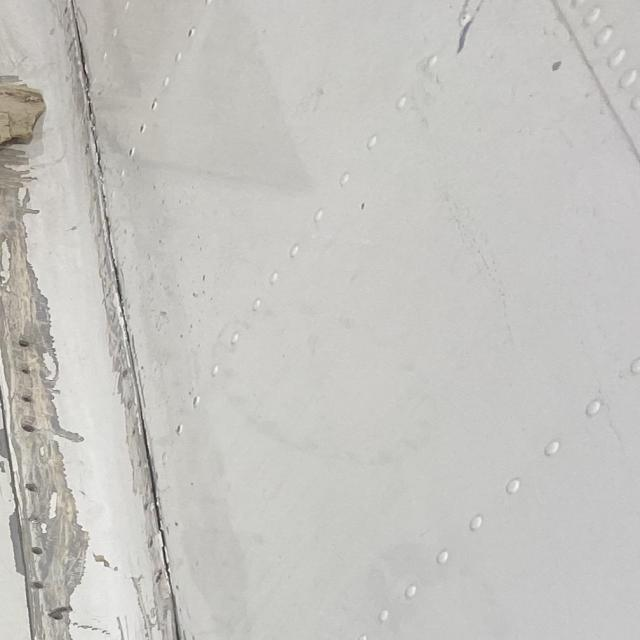Missing-head: (15, 336, 34, 351), (22, 479, 41, 494), (17, 365, 36, 378), (47, 610, 68, 621), (29, 581, 47, 592), (20, 423, 37, 434), (31, 544, 44, 556), (20, 393, 33, 404)
Paint-off: (454, 12, 486, 60), (8, 510, 27, 575), (0, 419, 11, 471), (545, 54, 570, 76)
Scratch: (0, 143, 88, 640), (119, 355, 182, 640)
